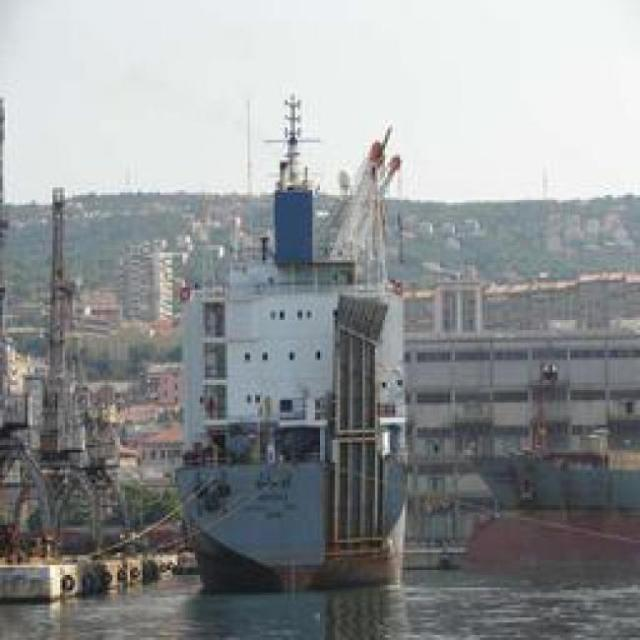boat: (174, 243, 430, 592)
